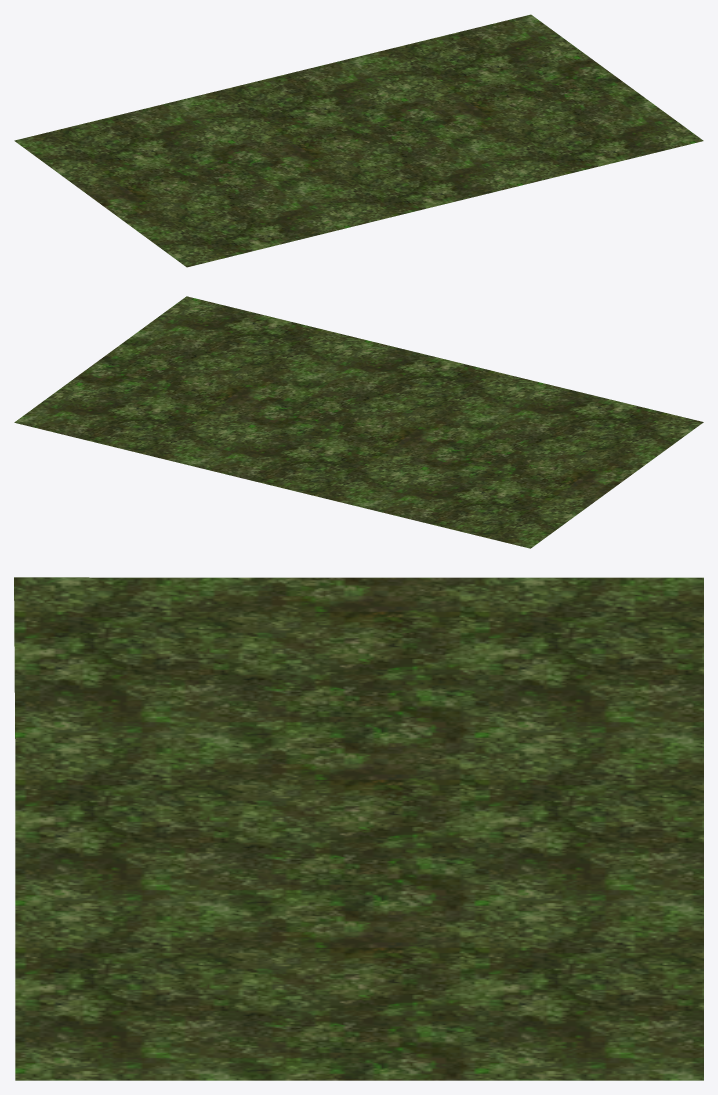
The model's file is OVERHILL_A_01_LINE166.fbx.
The picture shows the model from 3 angles, top to bottom: view 1: azimuth 30°, elevation 25°; view 2: azimuth 150°, elevation 25°; view 3: azimuth 270°, elevation 25°; orthographic projection. The views are drawn at different scales.
Parts seen in each view (by area): view 1: OVERHILL_A_01_LINE166; view 2: OVERHILL_A_01_LINE166; view 3: OVERHILL_A_01_LINE166.
Boxes of the visible parts, x1,y1,x2,y2 form: OVERHILL_A_01_LINE166: [14, 14, 703, 267]; OVERHILL_A_01_LINE166: [14, 296, 703, 548]; OVERHILL_A_01_LINE166: [14, 577, 703, 1080].
Bounding box in the file's own units: 80001 × 0.0381 × 46374.
Materials: 1 (1 with a texture image).
